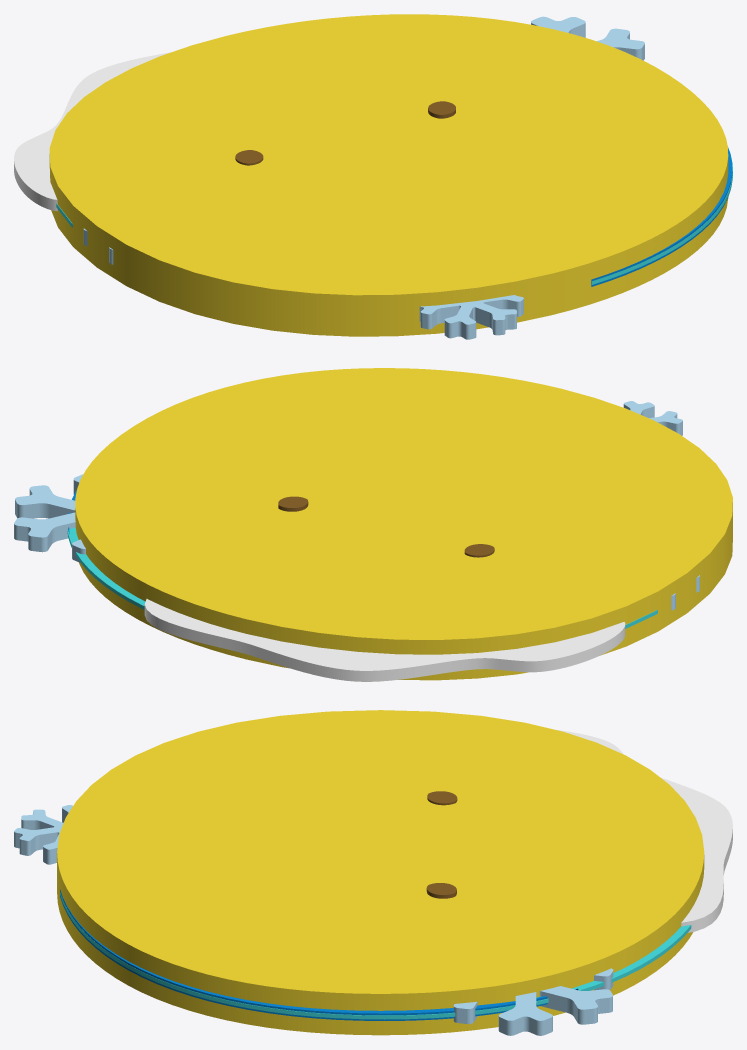
File: emoji_u1f976.glb
The picture shows the model from 3 angles, top to bottom: view 1: azimuth 30°, elevation 25°; view 2: azimuth 150°, elevation 25°; view 3: azimuth 270°, elevation 25°; orthographic projection. The views are drawn at different scales.
Parts seen in each view (by area): view 1: emoji_u1f976; view 2: emoji_u1f976; view 3: emoji_u1f976.
Part boxes in pixels (bbox=[...]): emoji_u1f976: bbox=[14, 14, 732, 339]; emoji_u1f976: bbox=[14, 368, 732, 681]; emoji_u1f976: bbox=[14, 710, 732, 1035].
Bounding box in the file's own units: 0.034 × 0.0026 × 0.0347.
